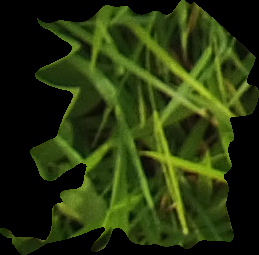grass: (1, 1, 258, 253)
